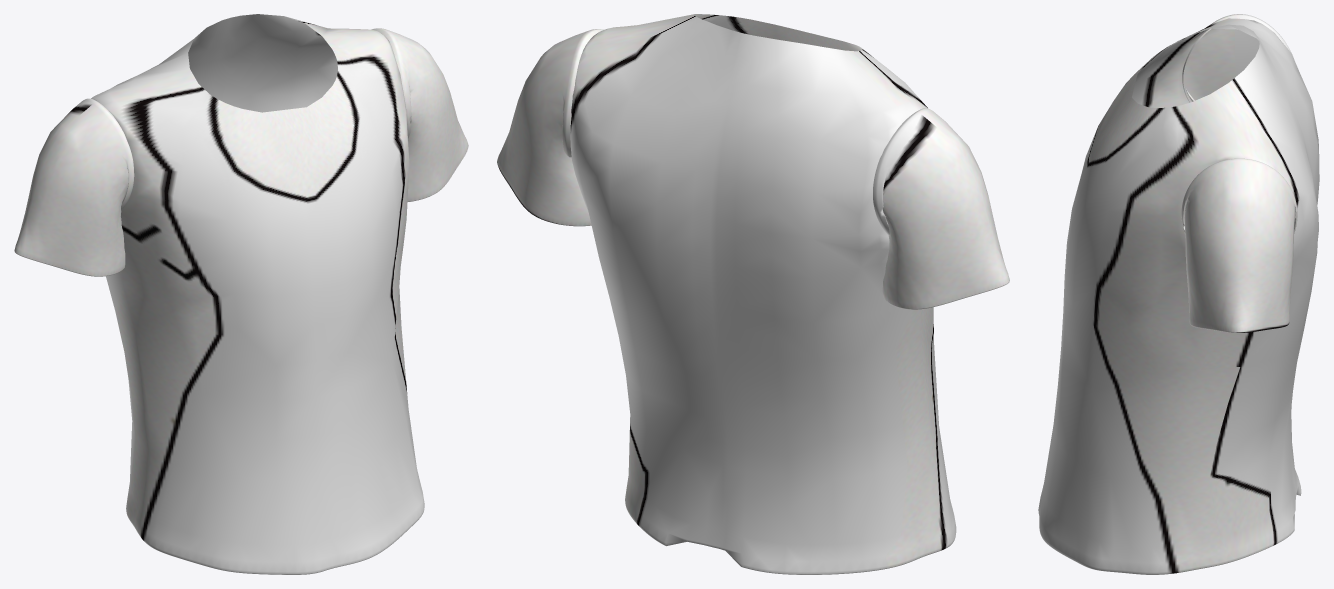
3 renders of one model, left to right at view 1: azimuth 30°, elevation 25°; view 2: azimuth 150°, elevation 25°; view 3: azimuth 270°, elevation 25°, orthographic. The views are drawn at different scales.
Parts seen in each view (by area): view 1: nurbsToPoly3, nurbsToPoly9, nurbsToPoly8; view 2: nurbsToPoly3, nurbsToPoly9, nurbsToPoly8; view 3: nurbsToPoly3, nurbsToPoly8, nurbsToPoly9.
Boxes of the visible parts, x1,y1,x2,y2 form: nurbsToPoly3: (91, 14, 424, 574); nurbsToPoly9: (14, 98, 134, 276); nurbsToPoly8: (371, 28, 468, 201); nurbsToPoly3: (570, 14, 956, 574); nurbsToPoly9: (873, 108, 1009, 309); nurbsToPoly8: (497, 29, 603, 226); nurbsToPoly3: (1038, 18, 1319, 574); nurbsToPoly8: (1181, 158, 1297, 332); nurbsToPoly9: (1182, 14, 1293, 102).
Size of the model in its own units: 7.88 by 7.86 by 4.18.
